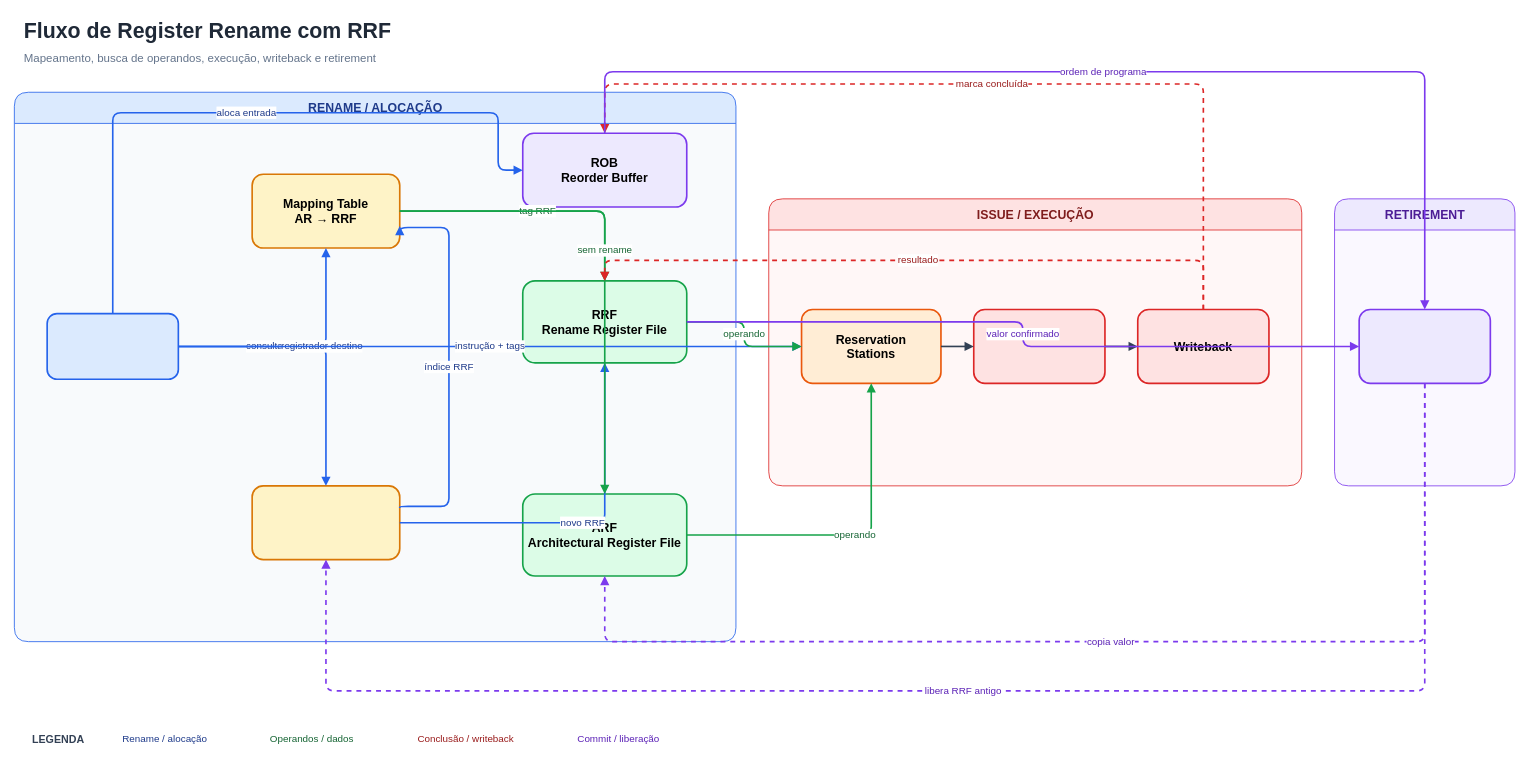
Image size: 1529x762. Some labels were removed from this diagram. The centre of each missing label's shape, as x and y in pixels:
"Commit / Retirement" belongs at point 1424,346.
"Decode / Rename" belongs at point 112,346.
"Execution Units" belongs at point 1039,346.
"Free List RRF livres" belongs at point 325,522.
